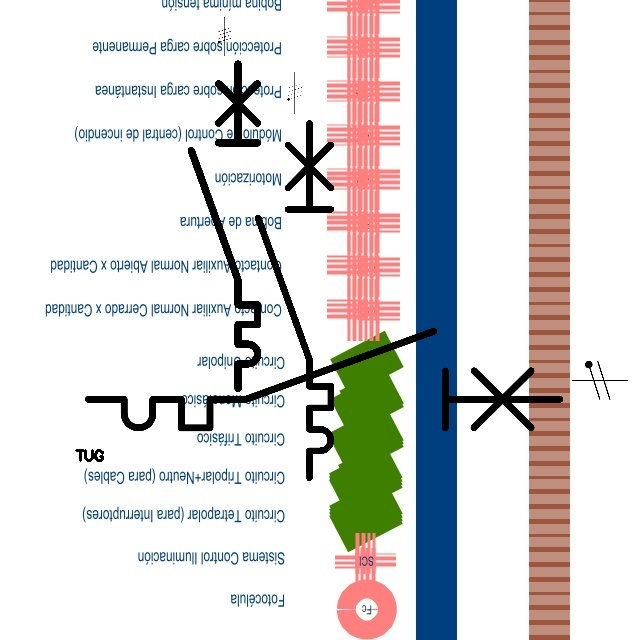interruptor_termomagnetico: (76, 319, 571, 440), (249, 114, 340, 487), (183, 55, 266, 396)
